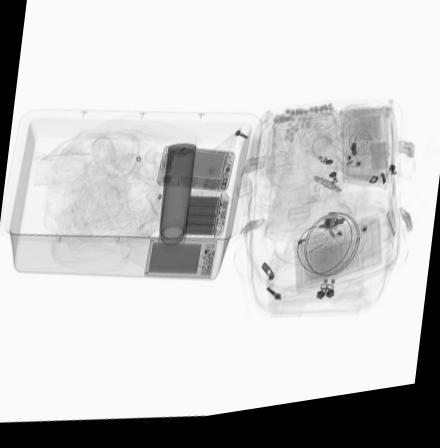Powerbank: (143, 245, 215, 283)
